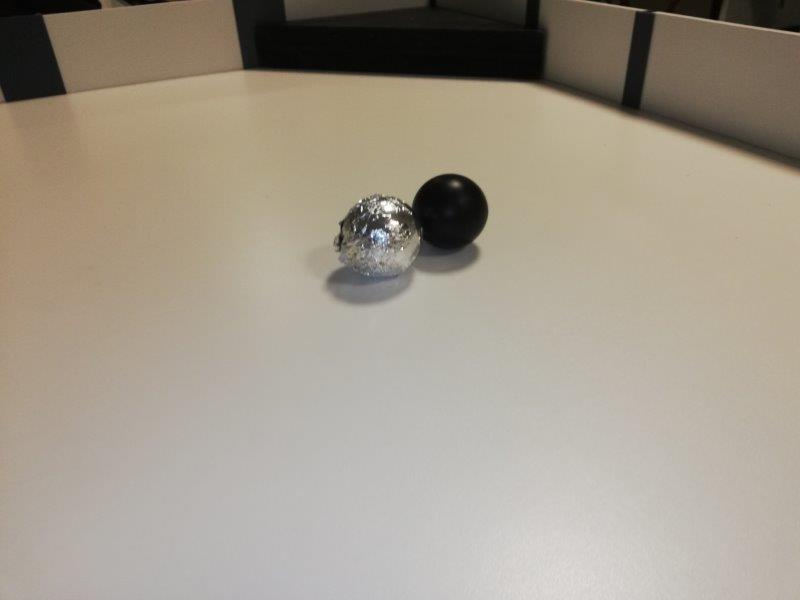bianca: (338, 194, 421, 277)
nera: (413, 171, 490, 250)
